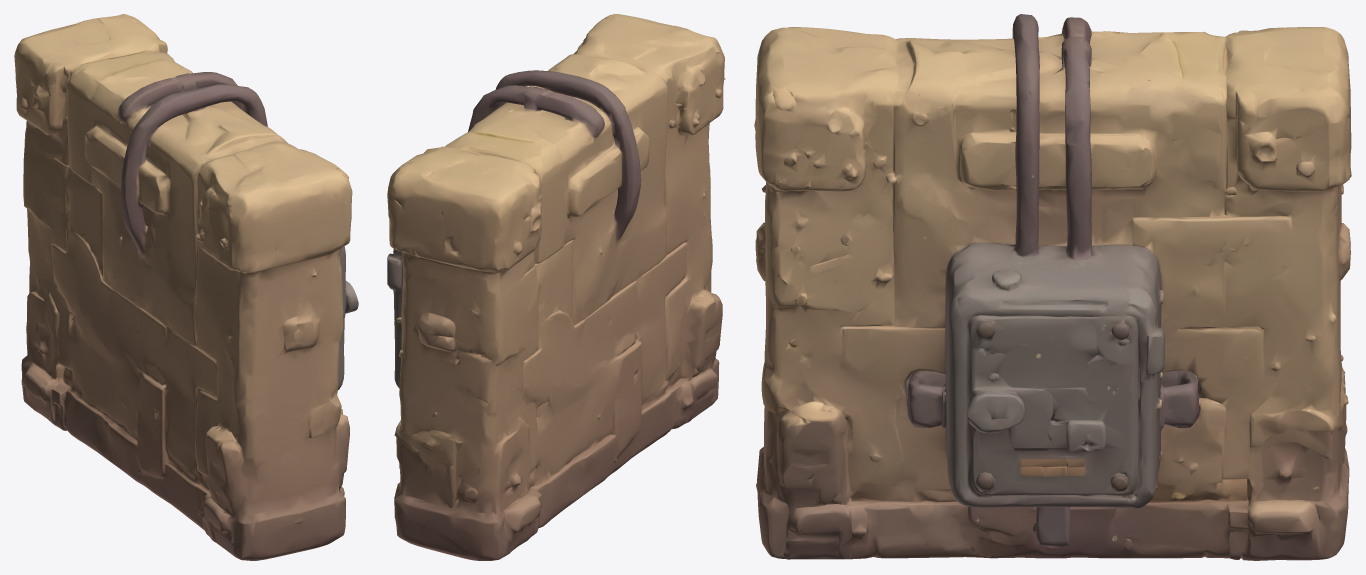
File: decor_box.glb
The picture shows the model from 3 angles, left to right: view 1: azimuth 30°, elevation 25°; view 2: azimuth 150°, elevation 25°; view 3: azimuth 270°, elevation 25°; orthographic projection. The views are drawn at different scales.
Parts seen in each view (by area): view 1: tripo_node_0dca5e94-cf11-4cf4-b07b-9d11189ce296; view 2: tripo_node_0dca5e94-cf11-4cf4-b07b-9d11189ce296; view 3: tripo_node_0dca5e94-cf11-4cf4-b07b-9d11189ce296.
Boxes of the visible parts, bbox=[...] form: tripo_node_0dca5e94-cf11-4cf4-b07b-9d11189ce296: bbox=[14, 14, 358, 560]; tripo_node_0dca5e94-cf11-4cf4-b07b-9d11189ce296: bbox=[387, 14, 725, 560]; tripo_node_0dca5e94-cf11-4cf4-b07b-9d11189ce296: bbox=[754, 14, 1351, 560].
Size of the model in its own units: 0.5278 by 0.912 by 0.9825.
Materials: 1 (1 with a texture image).
